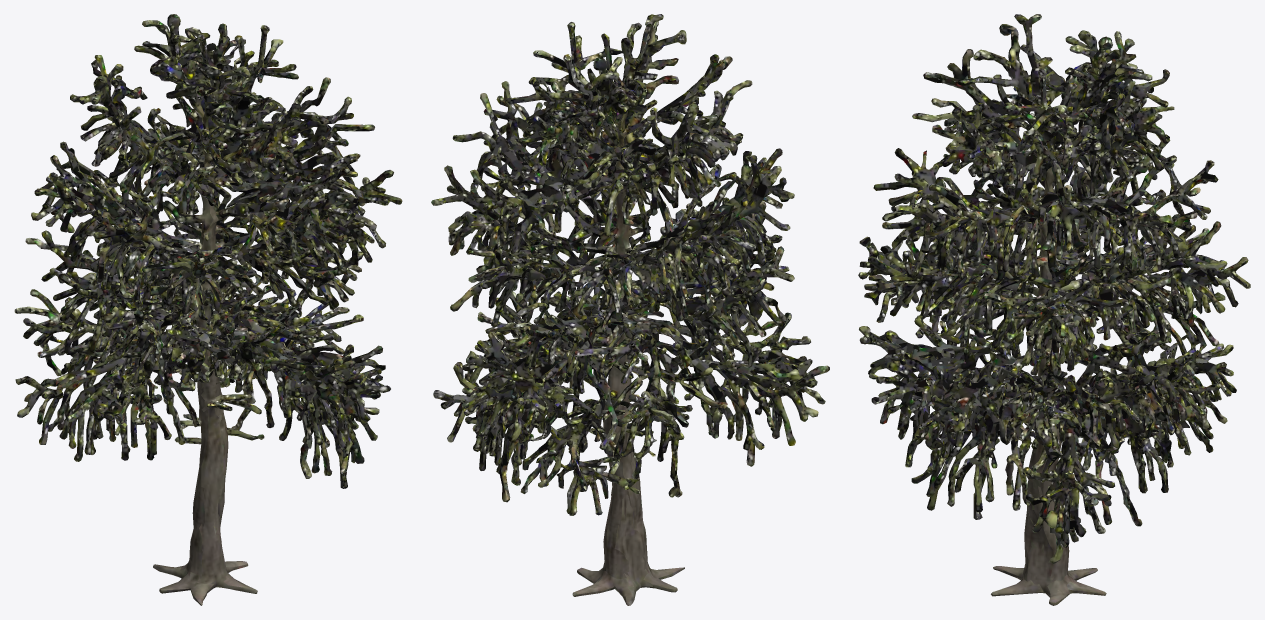
File: alpine-larch-v3.glb
The picture shows the model from 3 angles, left to right: view 1: azimuth 30°, elevation 25°; view 2: azimuth 150°, elevation 25°; view 3: azimuth 270°, elevation 25°; orthographic projection.
Parts seen in each view (by area): view 1: geometry_0; view 2: geometry_0; view 3: geometry_0.
Boxes of the visible parts, x1,y1,x2,y2 form: geometry_0: [14, 14, 402, 605]; geometry_0: [431, 14, 829, 605]; geometry_0: [858, 14, 1250, 605].
Size of the model in its own units: 10.58 by 15 by 9.5.
1 material, 1 textured.
